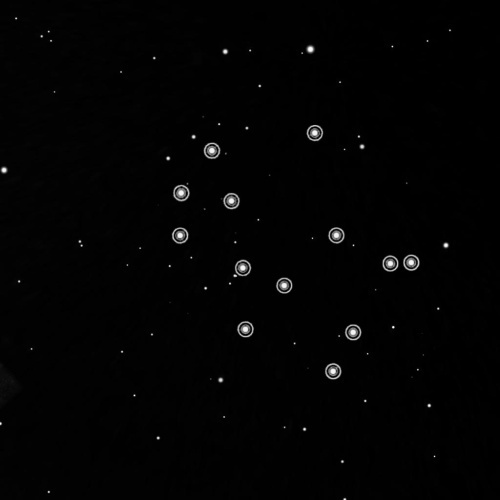gemini: (167, 118, 429, 389)
